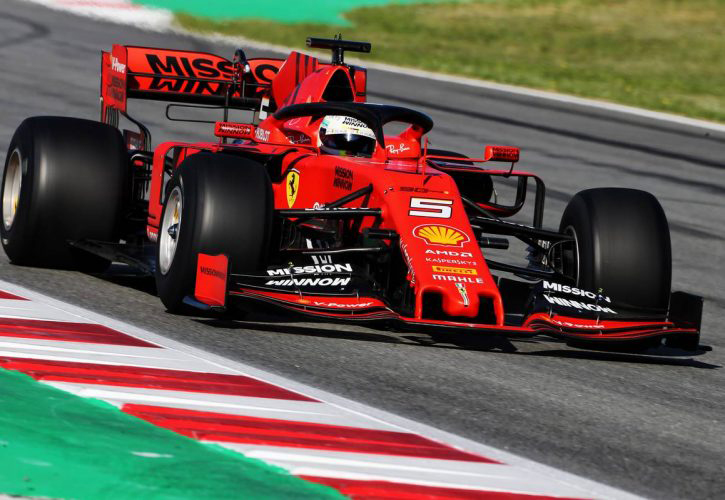F1 Car: (6, 28, 716, 364)
